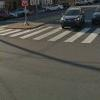Crosswalk: (6, 22, 100, 52)
